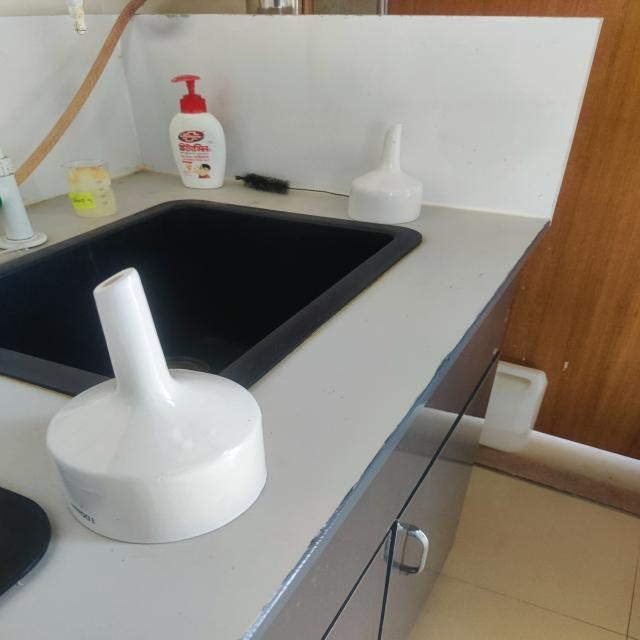Buchner_Funnel: (20, 213, 292, 565)
